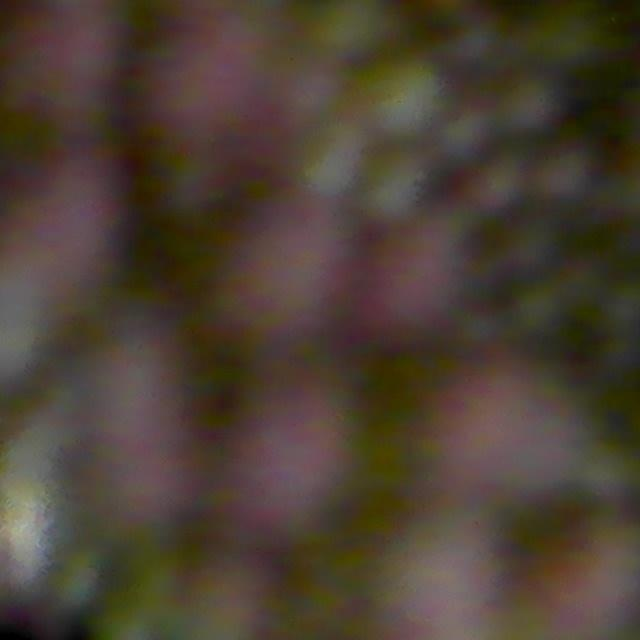SeaGrape: (221, 383, 365, 561), (203, 205, 342, 377), (126, 28, 277, 177), (337, 205, 457, 363), (510, 494, 640, 638), (0, 150, 114, 300), (0, 0, 103, 133), (363, 56, 449, 141), (447, 158, 518, 223), (499, 74, 561, 135), (536, 145, 596, 204)
